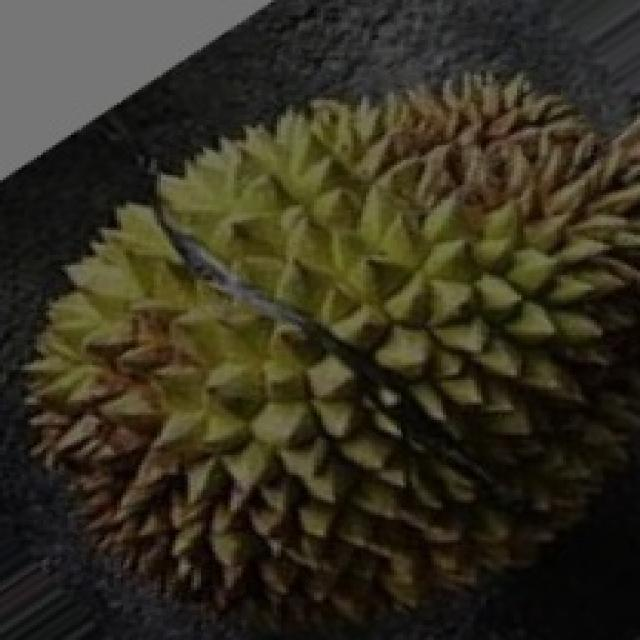fruit: (292, 20, 637, 510), (0, 207, 345, 635)
